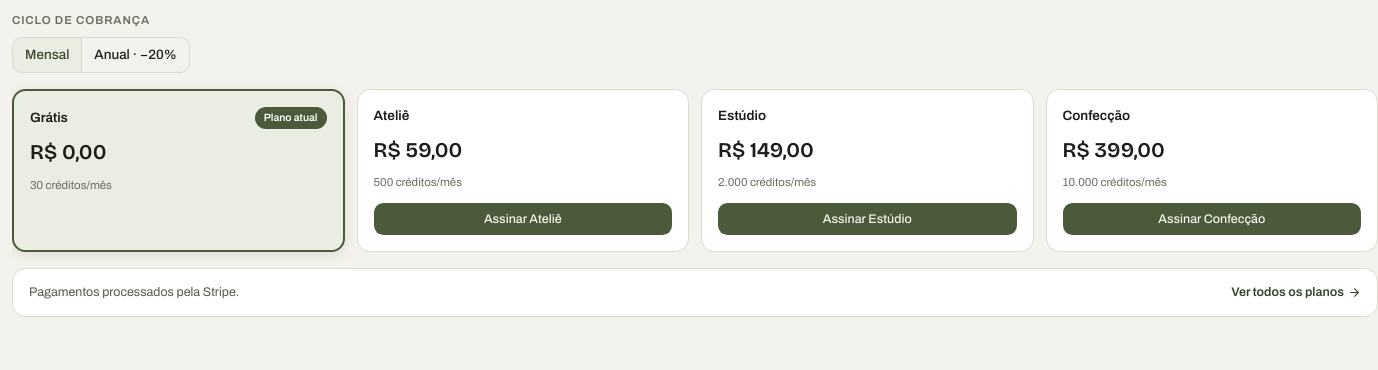
it: PlanSection › real plan switching (#9) › subscribes to studio, updates the current-plan badge and refreshes the server data
Click the button "Assinar Estúdio". click: (867, 219)
box: [718,203,1016,235]
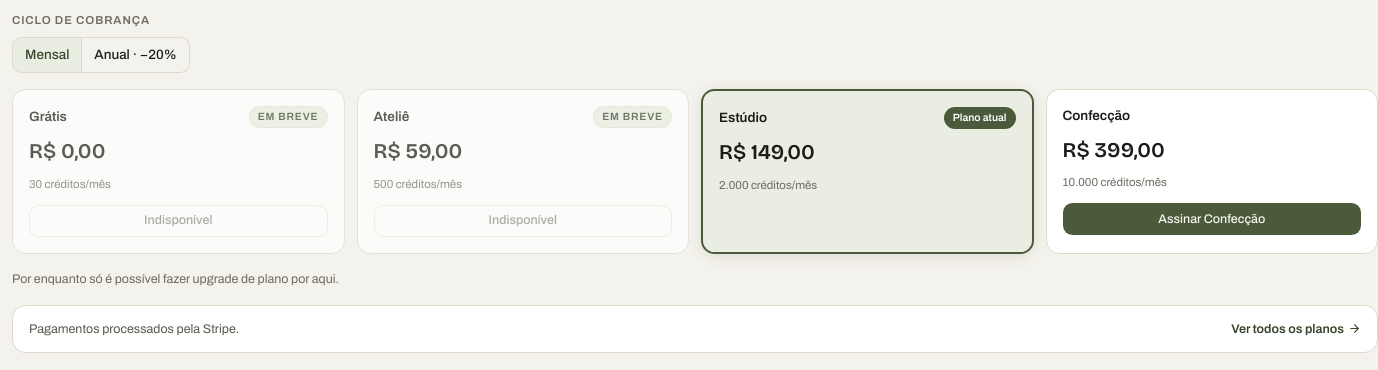
expect the button "Assinar Estúdio" is gone: met
